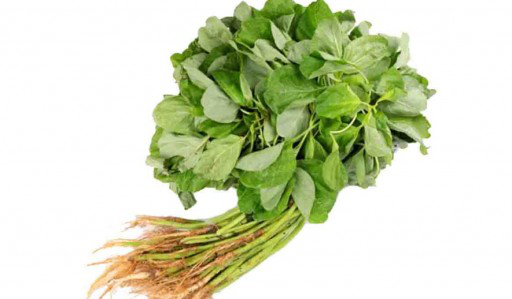Bayam: (86, 22, 436, 295)
